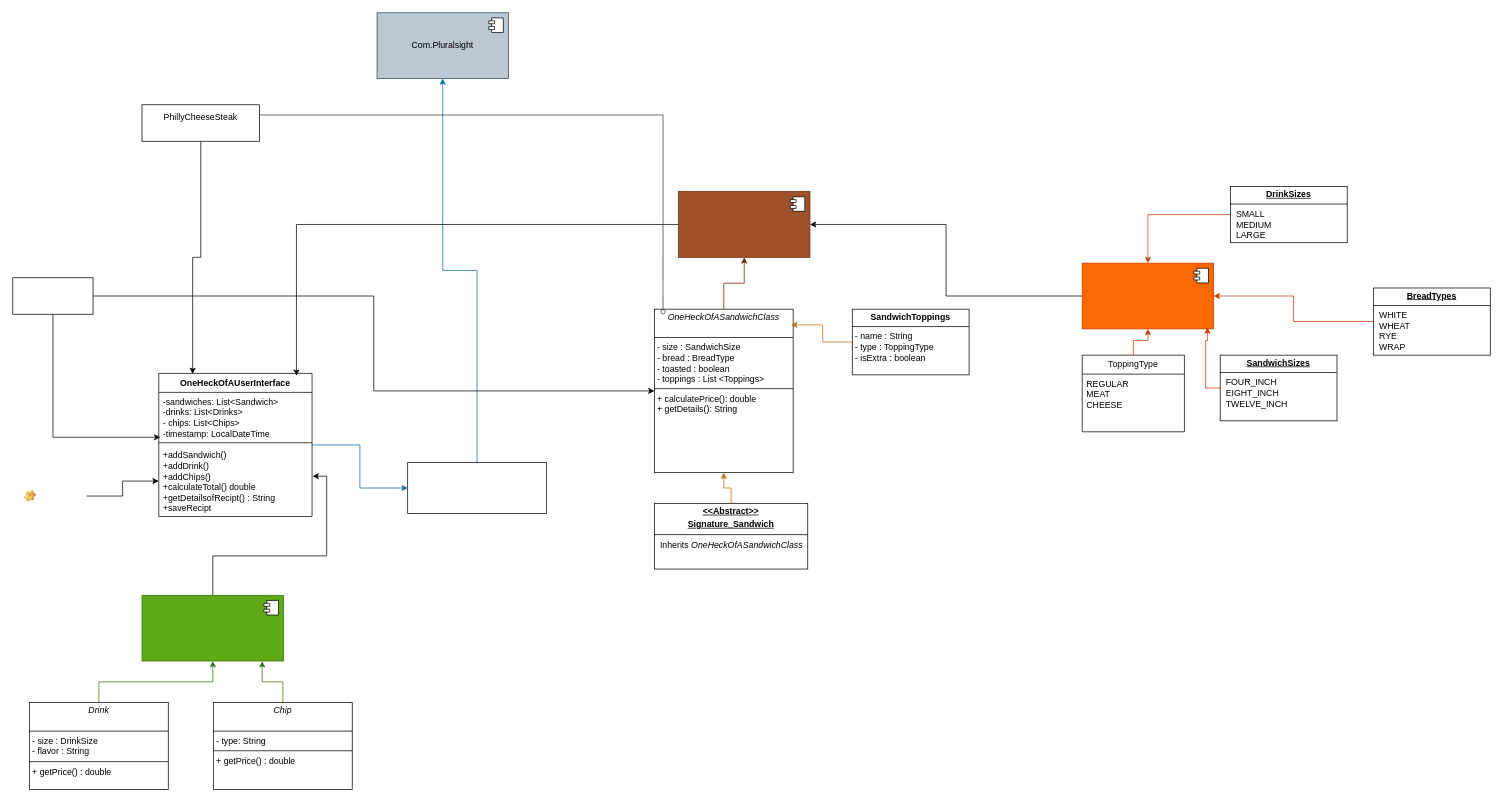
The diagram is 1503 pixels wide and 802 high, and some of its shapes have lost their labels. Each missing label, with the box of its shape:
<<Main>> Display UI.display: (407, 462, 546, 514)
BLT: (12, 277, 93, 314)
Com.Pluralsight.Heck_Sandwich: (678, 191, 810, 257)
Com.Pluralsight.Heck_Sides: (141, 595, 284, 661)
Com.Pluralsight.Sandwich_Emus: (1081, 262, 1214, 329)
Recipts.txt: (19, 486, 86, 505)
